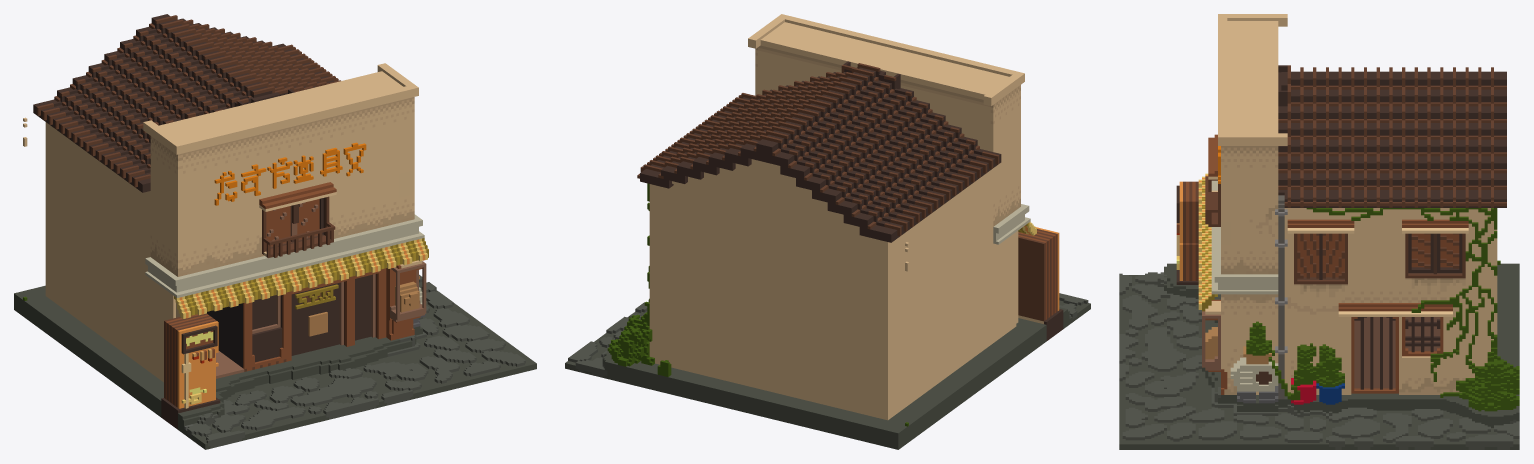
3 renders of one model, left to right at view 1: azimuth 30°, elevation 25°; view 2: azimuth 150°, elevation 25°; view 3: azimuth 270°, elevation 25°, orthographic. The views are drawn at different scales.
Parts seen in each view (by area): view 1: ObjObject_7; view 2: ObjObject_7; view 3: ObjObject_7.
Boxes of the visible parts, left/top/right/bottom form: ObjObject_7: left=14, top=14, right=536, bottom=449; ObjObject_7: left=565, top=14, right=1090, bottom=449; ObjObject_7: left=1119, top=14, right=1519, bottom=449.
Size of the model in its own units: 6.81 by 5.24 by 6.81.
Materials: 1 (1 with a texture image).
